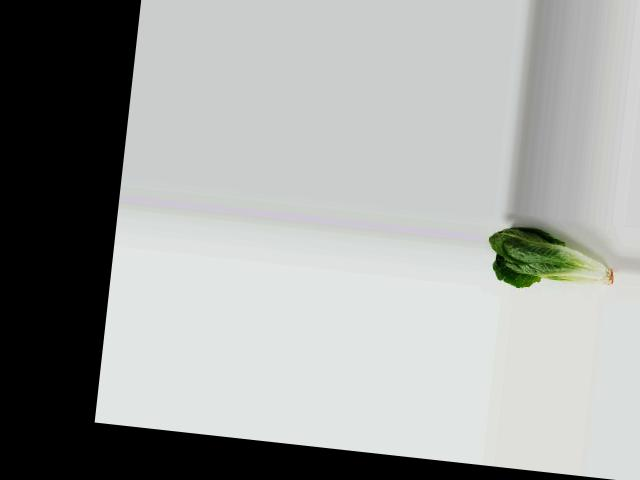lettuce: (483, 220, 624, 300)
